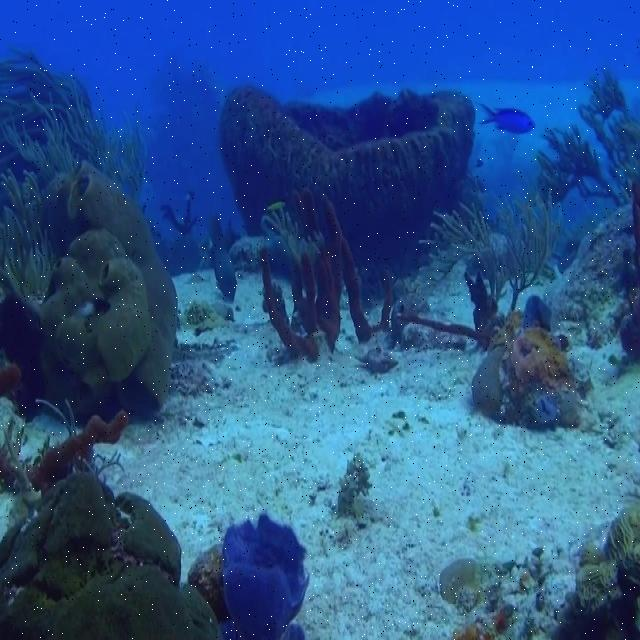aquatic plants: (0, 46, 146, 302), (417, 189, 564, 312), (537, 63, 639, 206), (575, 499, 639, 609)
reefs: (219, 86, 476, 263), (0, 472, 221, 639), (40, 175, 178, 423), (261, 191, 393, 360), (470, 297, 585, 431), (220, 514, 311, 639)
